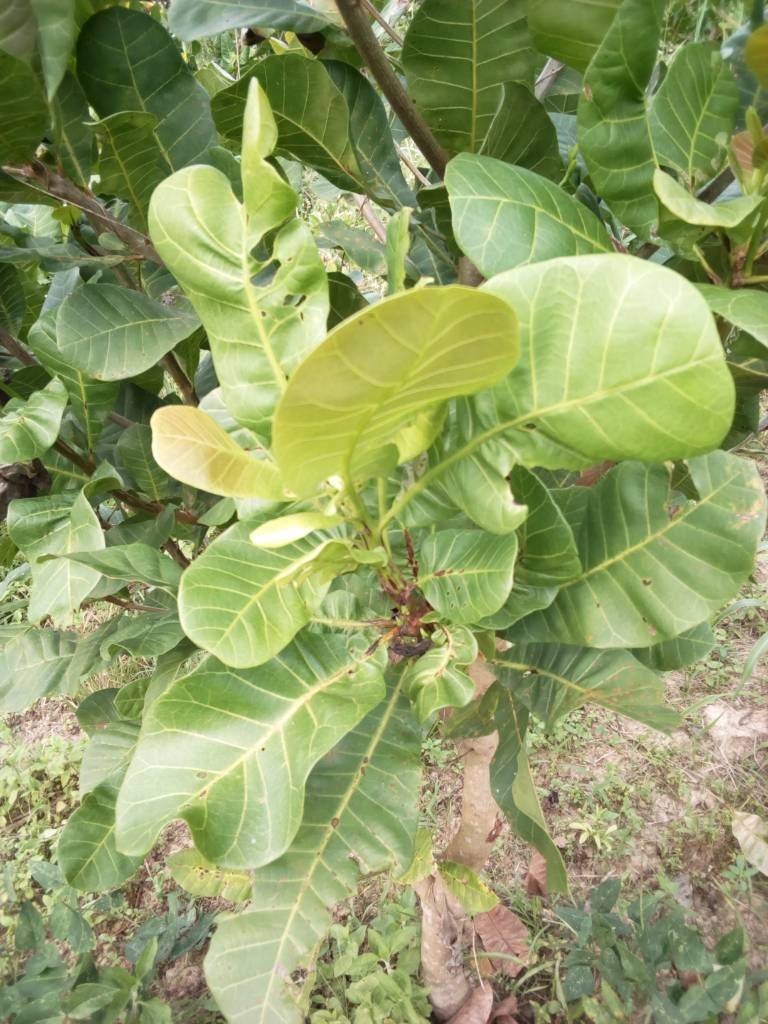Helopeltis anacardii: (174, 127, 311, 385)
